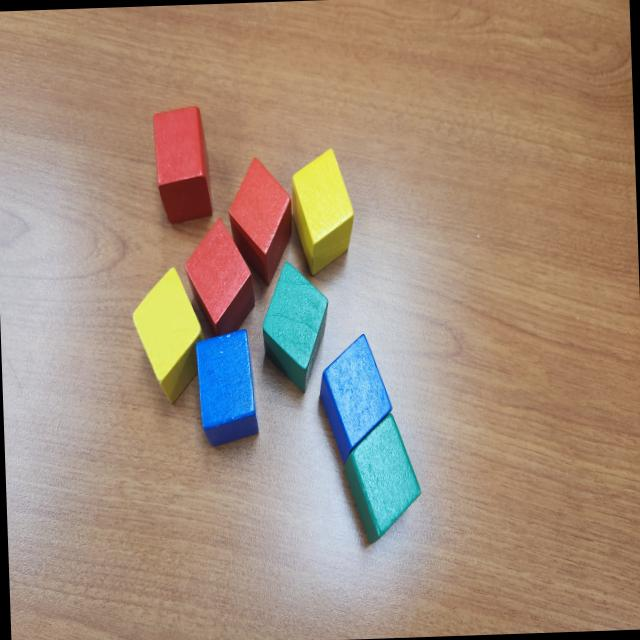blue: (318, 334, 394, 464), (195, 327, 260, 447)
green: (341, 410, 422, 546), (260, 258, 332, 396)
red: (182, 215, 255, 338), (227, 156, 294, 288), (152, 104, 212, 223)
yellow: (132, 266, 204, 404), (290, 148, 356, 277)
